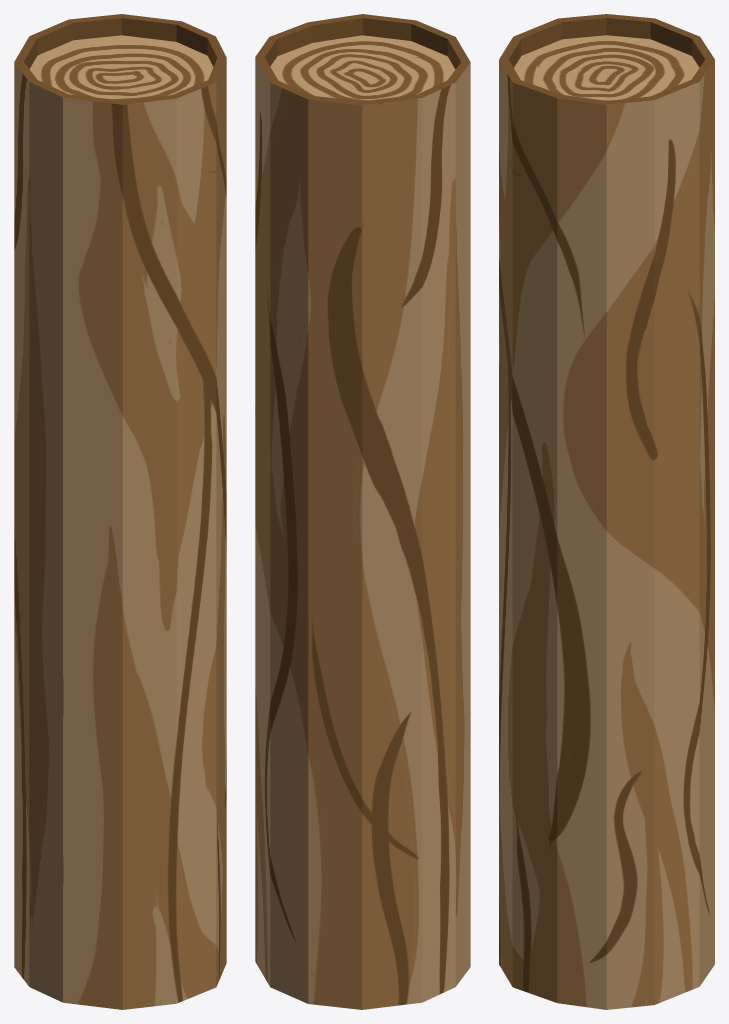
Rendered from wood.fbx.
3 renders of one model, left to right at view 1: azimuth 30°, elevation 25°; view 2: azimuth 150°, elevation 25°; view 3: azimuth 270°, elevation 25°, orthographic.
Visible parts, largest first — view 1: Wood; view 2: Wood; view 3: Wood.
Boxes of the visible parts, bbox=[...] form: Wood: bbox=[14, 14, 226, 1009]; Wood: bbox=[255, 14, 470, 1009]; Wood: bbox=[499, 14, 714, 1009].
Bounding box in the file's own units: 200 × 927 × 201.
